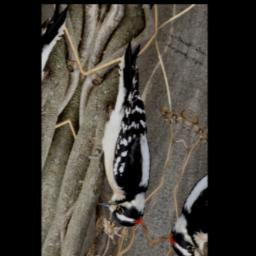Woodpecker: (76, 36, 188, 235)
